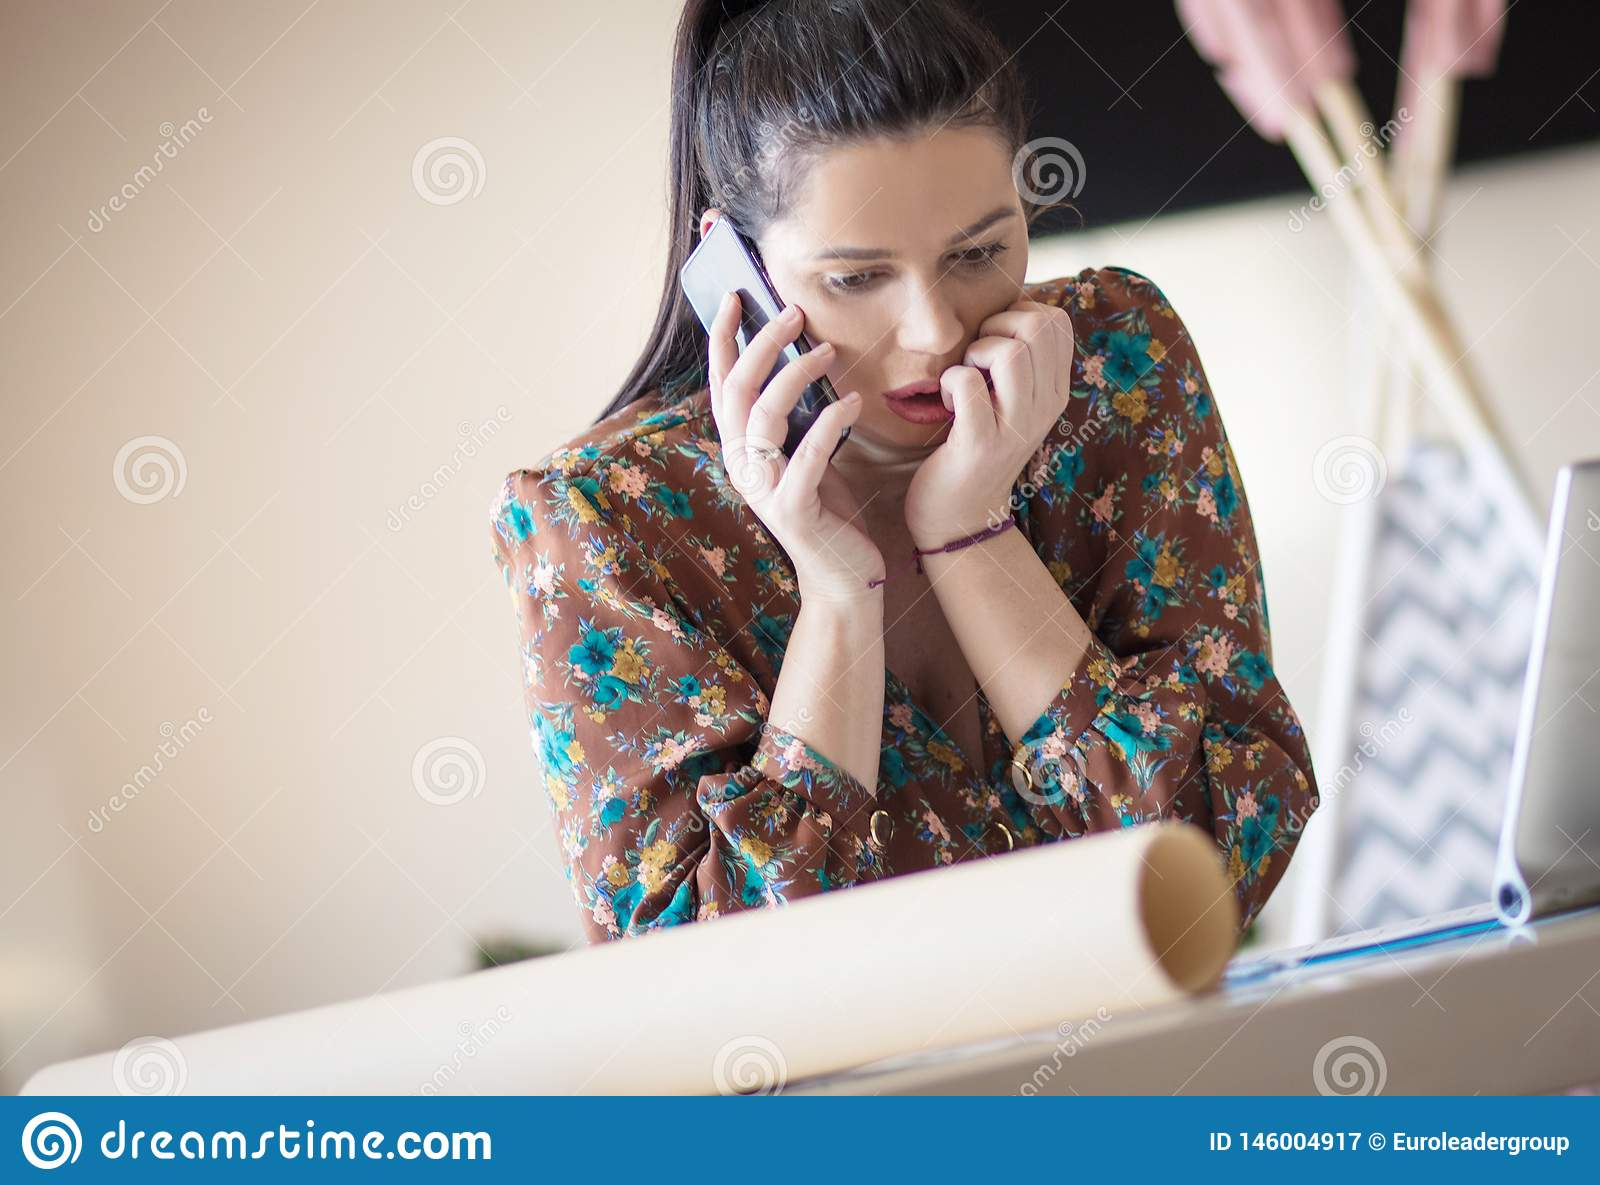helmet: (676, 208, 1033, 612)
phone: (674, 214, 853, 471)
